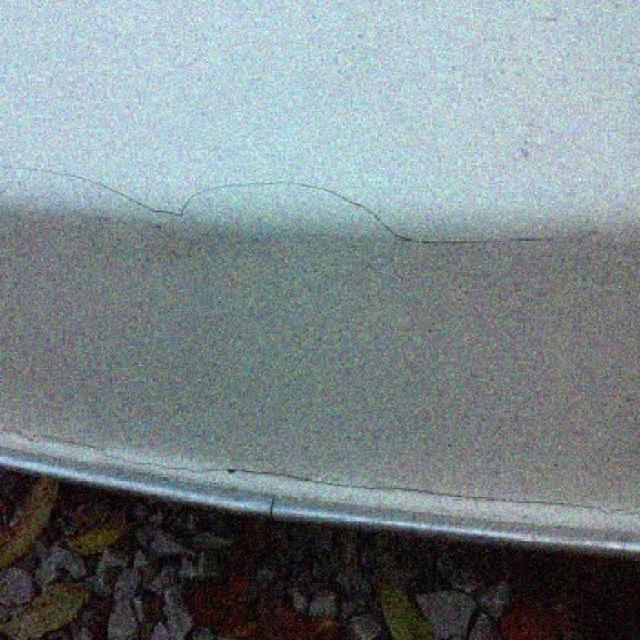crack: (187, 184, 549, 244), (3, 168, 183, 217), (111, 454, 300, 480), (435, 497, 609, 514), (6, 427, 106, 452), (304, 479, 433, 495)
